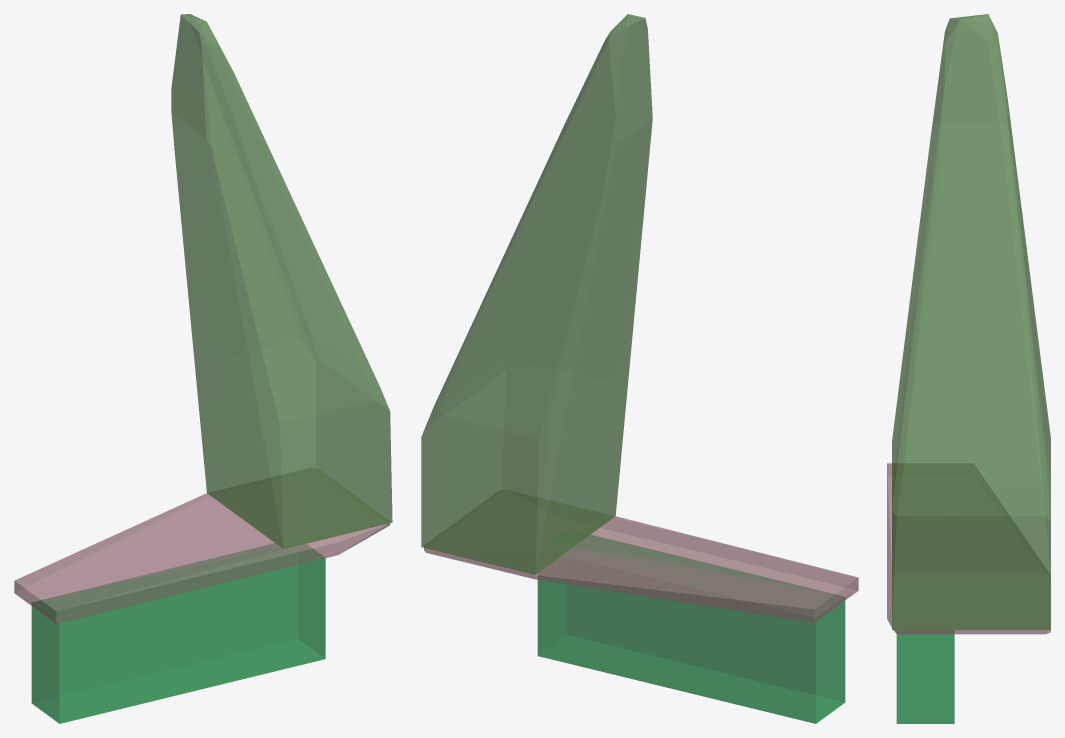
File: one_finger_meter.obj
The picture shows the model from 3 angles, left to right: view 1: azimuth 30°, elevation 25°; view 2: azimuth 150°, elevation 25°; view 3: azimuth 270°, elevation 25°; orthographic projection. The views are drawn at different scales.
Visible parts, largest first — view 1: Shape_convex_3, Shape_convex_2, Shape_convex_1; view 2: Shape_convex_3, Shape_convex_2, Shape_convex_1; view 3: Shape_convex_3, Shape_convex_1, Shape_convex_2.
Boxes of the visible parts, box(x1,y1,x2,y2) form: Shape_convex_3: box(171, 14, 392, 548); Shape_convex_2: box(31, 543, 325, 723); Shape_convex_1: box(14, 468, 390, 623); Shape_convex_3: box(421, 14, 652, 574); Shape_convex_2: box(537, 535, 845, 723); Shape_convex_1: box(424, 490, 858, 622); Shape_convex_3: box(892, 14, 1050, 629); Shape_convex_1: box(887, 463, 1050, 634); Shape_convex_2: box(896, 630, 954, 723).
Size of the model in its own units: 0.0413 by 0.0742 by 0.0167.
